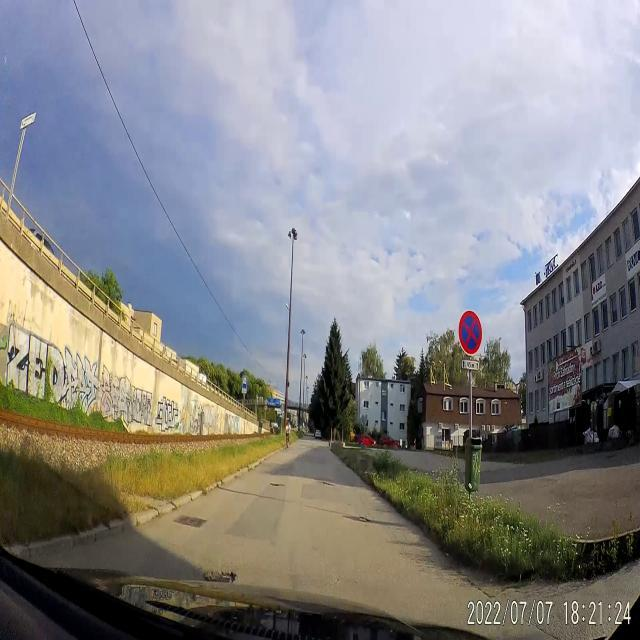Manhole: (168, 512, 210, 534)
Pothole: (200, 567, 242, 584), (344, 508, 374, 528), (314, 474, 336, 490), (268, 478, 282, 490)
